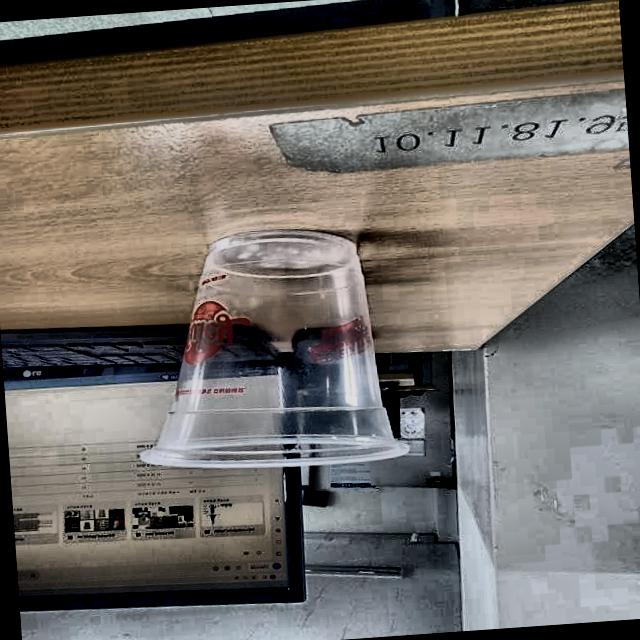plastic cup: (122, 218, 416, 480)
